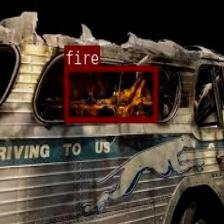fire: (64, 65, 156, 122)
